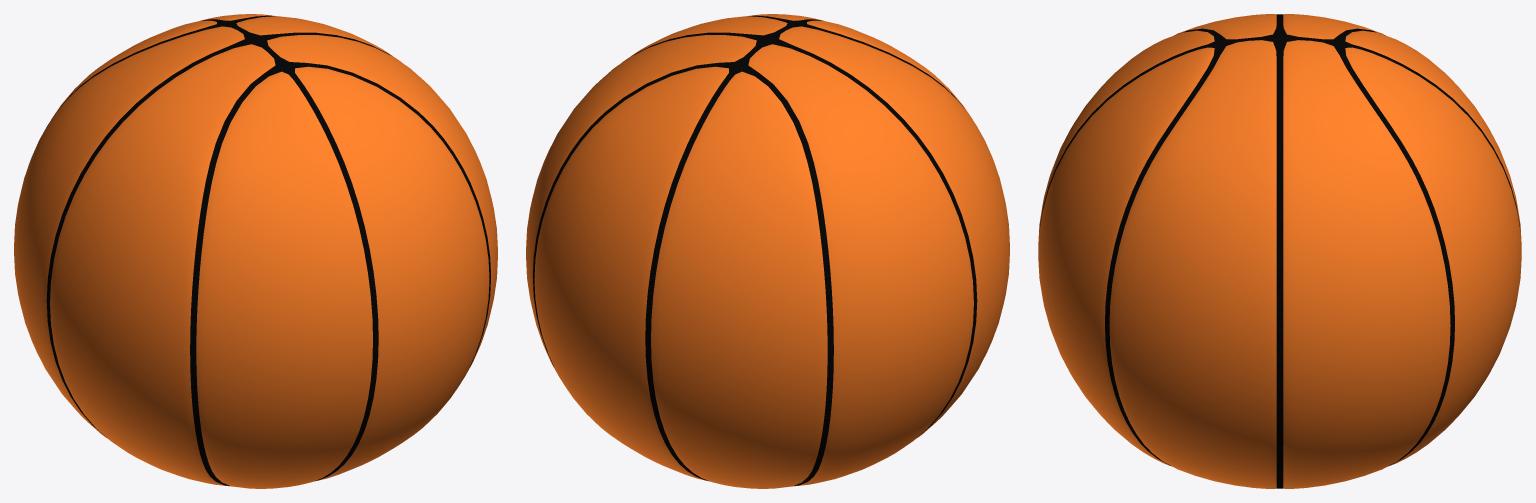
3 renders of one model, left to right at view 1: azimuth 30°, elevation 25°; view 2: azimuth 150°, elevation 25°; view 3: azimuth 270°, elevation 25°, orthographic.
Parts seen in each view (by area): view 1: Baskatball; view 2: Baskatball; view 3: Baskatball.
Boxes of the visible parts, x1,y1,x2,y2 form: Baskatball: (14, 14, 497, 488); Baskatball: (526, 14, 1009, 488); Baskatball: (1038, 14, 1521, 488).
Bounding box in the file's own units: 1.6 × 1.56 × 1.6.
